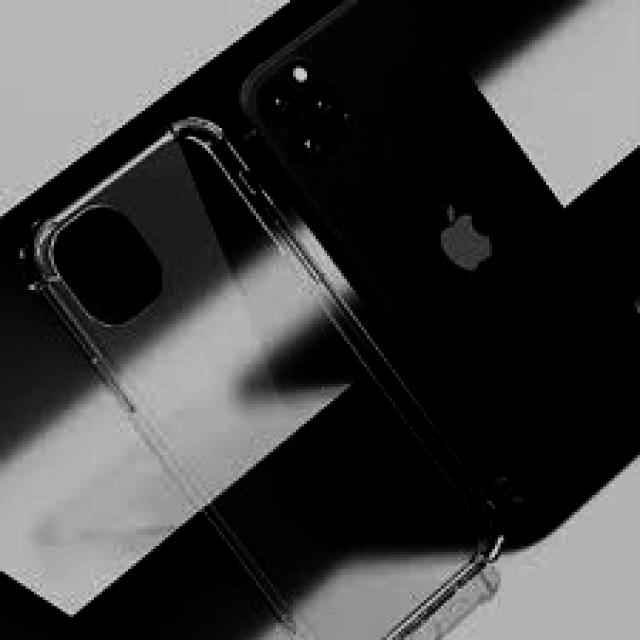lens: (257, 60, 354, 168)
phone: (247, 6, 637, 501)
